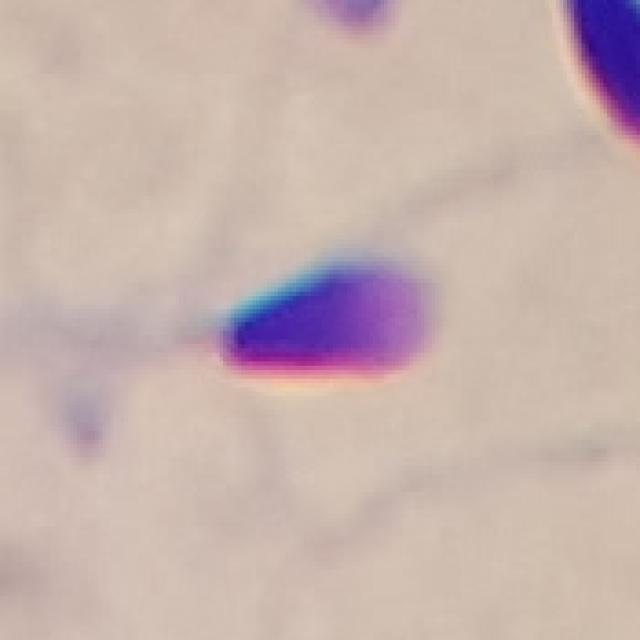abnormal sperm: (132, 248, 429, 379)
